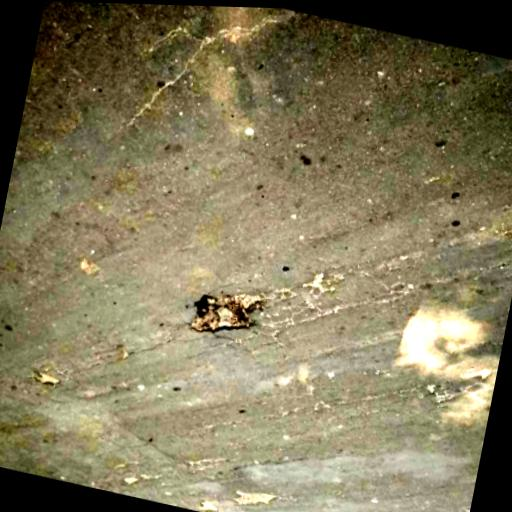pothole: (182, 277, 264, 347), (230, 485, 278, 512), (32, 370, 60, 390), (197, 498, 221, 512)
